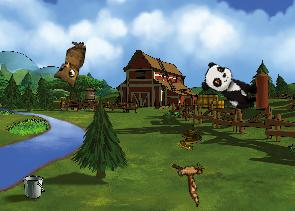eagle: (161, 149, 220, 207)
owl: (52, 38, 86, 88)
panda: (197, 59, 264, 114)
